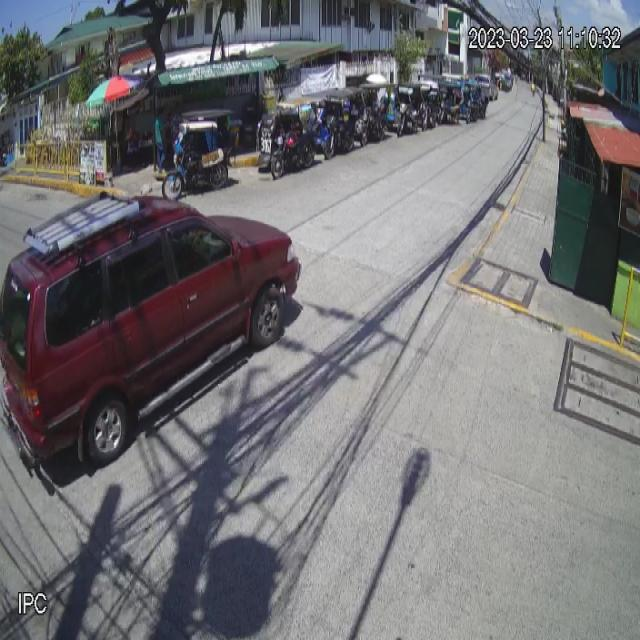Car: (0, 189, 302, 475)
